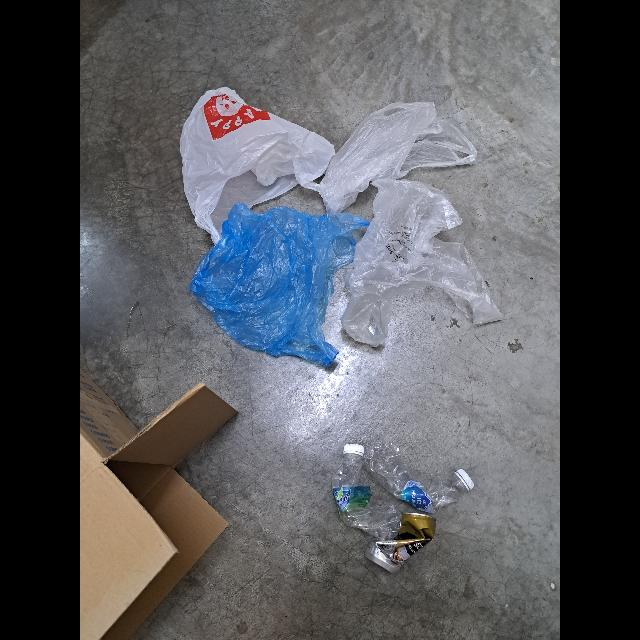garrafa plástica: (364, 442, 468, 514), (332, 455, 400, 539)
lata: (365, 512, 437, 574)
papelão: (80, 364, 240, 640)
sacola plástica: (190, 202, 370, 368), (339, 180, 503, 346), (178, 88, 336, 242), (320, 100, 478, 214)
tampa plástica: (457, 468, 475, 489), (344, 444, 364, 454)
